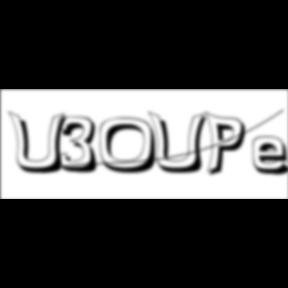3: (58, 116, 104, 176)
O: (100, 117, 164, 176)
P: (204, 110, 252, 180)
U: (148, 110, 214, 176), (8, 110, 72, 176)
